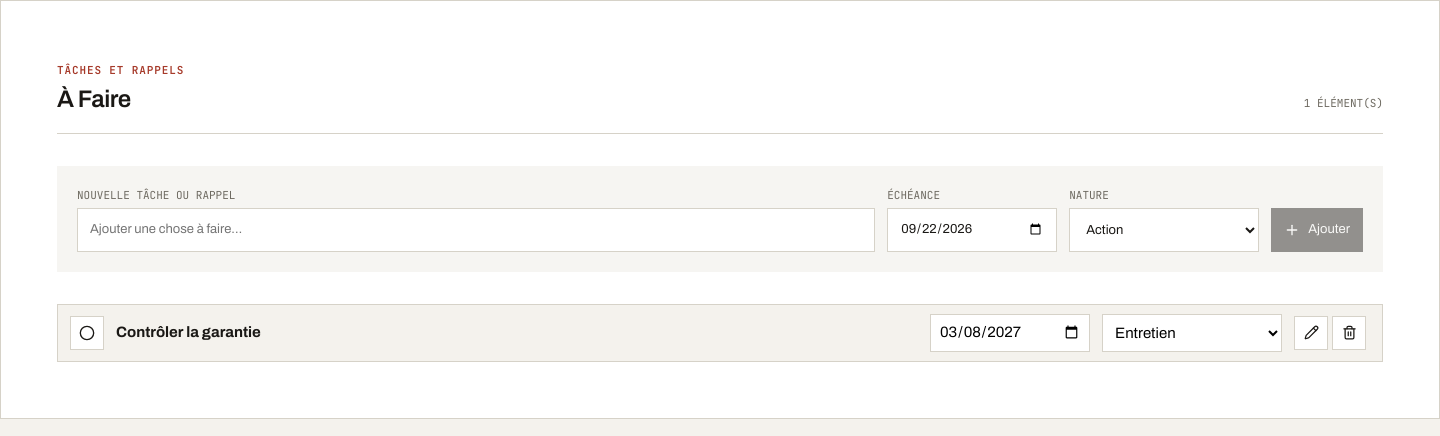
Test: BarreDossier : édition d’une tâche entamée puis passage en lecture › témoin : le tableau À faire ferme lui aussi l’édition en lecture
The image size is (1440, 436).
Click the button named "Modifier : Contrôler la garantie". click: (1311, 333)
box: [1294,316,1328,350]
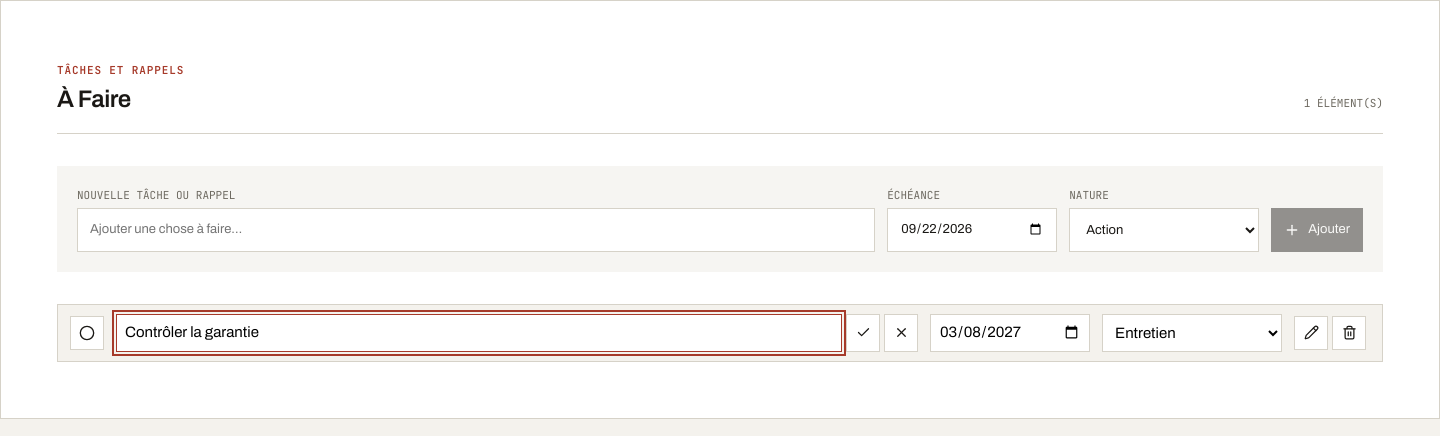
Now the field named "Modifier la tâche" is shown, box [116,314,842,352]
